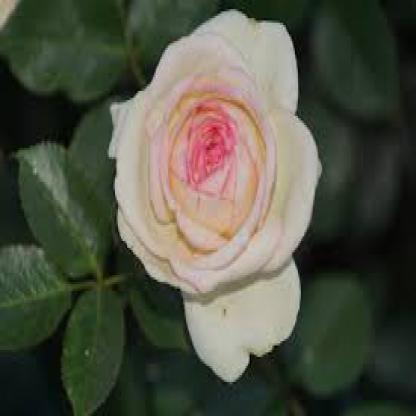Rose-Mawar: (107, 6, 319, 381)
